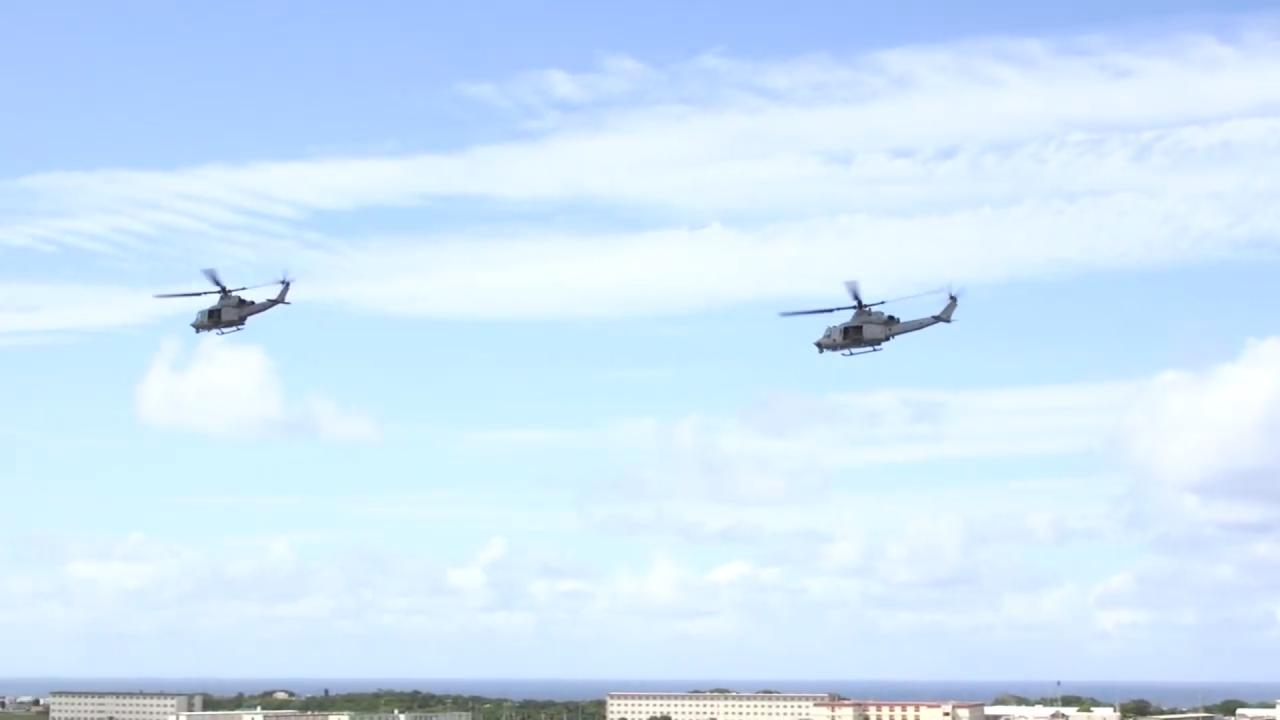Helicopter: (765, 270, 975, 364), (140, 256, 308, 350)
